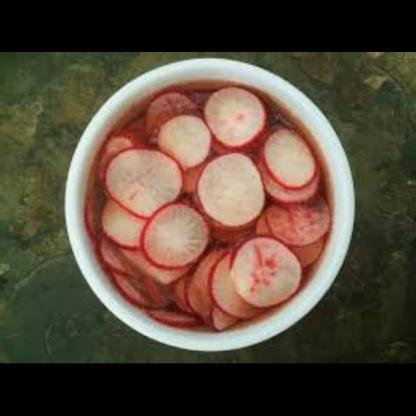rediska: (95, 75, 335, 333)
